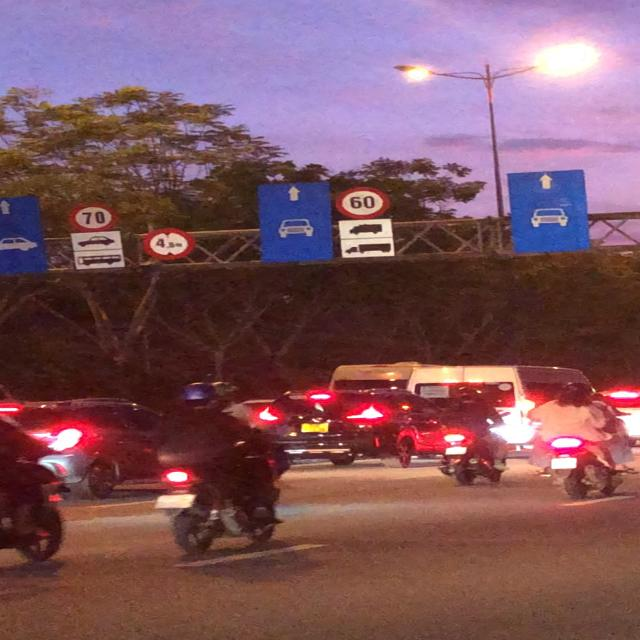Bien bao han che chieu cao: (141, 225, 199, 260)
Bien bao toc do toi da cho phep: (327, 185, 397, 219), (67, 202, 122, 231)
